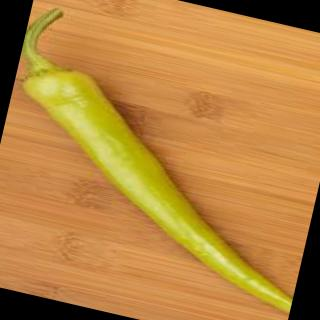Cabai Hijau: (21, 7, 293, 315)
